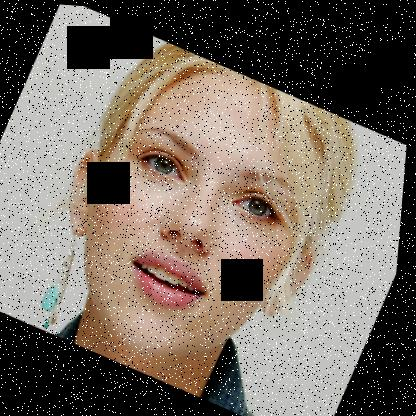Female: (18, 21, 377, 399)
